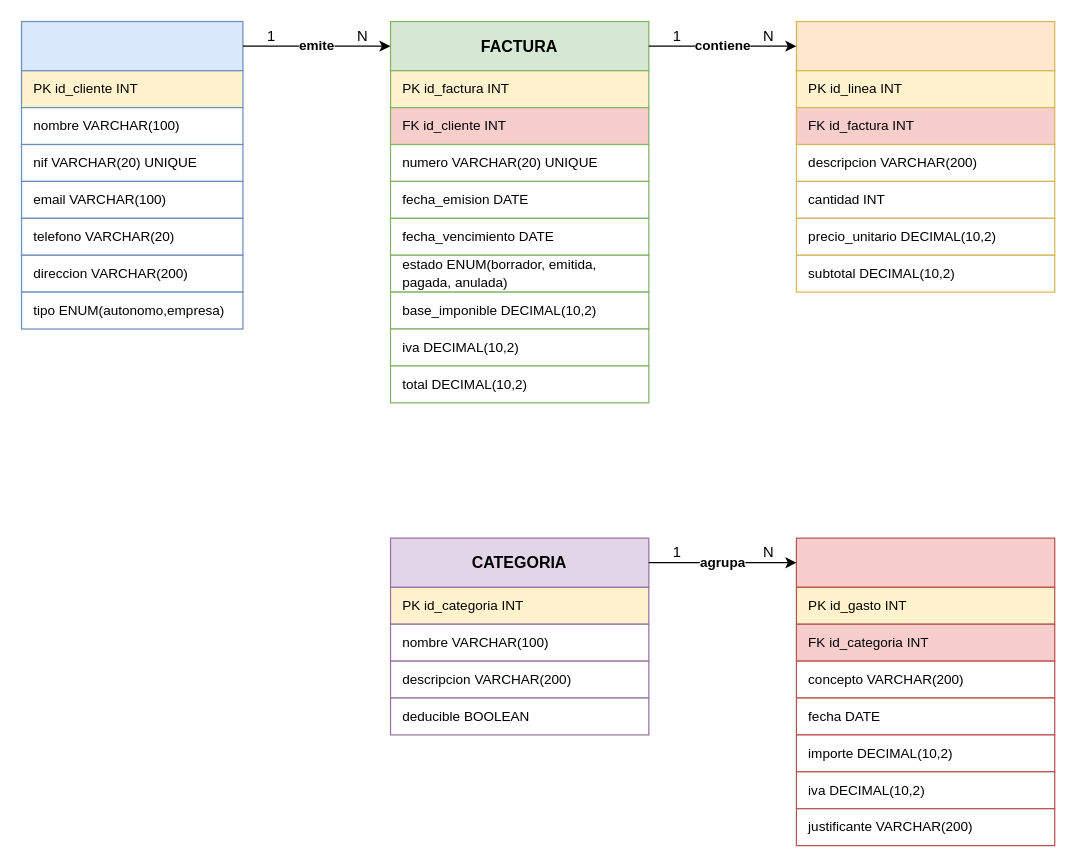
Some shapes in this 1076 by 867 pixel diagram are drawn without their labels. Here are the shapes that lost their labels. From the top down, the centre of each, then its label:
At point 131,45: "CLIENTE".
At point 925,45: "LINEA_FACTURA".
At point 925,562: "GASTO".
